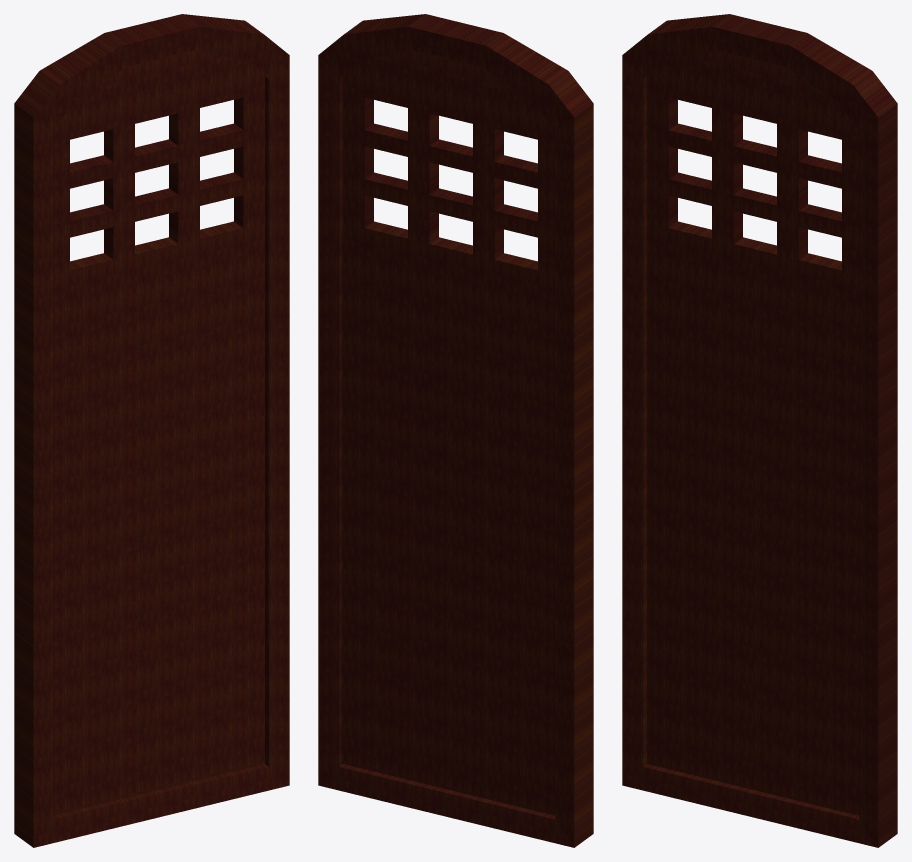
File: Wind_Screen.fbx
The picture shows the model from 3 angles, left to right: view 1: azimuth 30°, elevation 25°; view 2: azimuth 150°, elevation 25°; view 3: azimuth 330°, elevation 25°; orthographic projection.
Parts seen in each view (by area): view 1: Wind_Screen; view 2: Wind_Screen; view 3: Wind_Screen.
Boxes of the visible parts, x1=… form: Wind_Screen: x1=14, y1=14, x2=289, y2=847; Wind_Screen: x1=318, y1=14, x2=593, y2=847; Wind_Screen: x1=622, y1=14, x2=897, y2=847.
Size of the model in its own units: 0.699 by 2.03 by 0.0913.
Materials: 1 (1 with a texture image).
